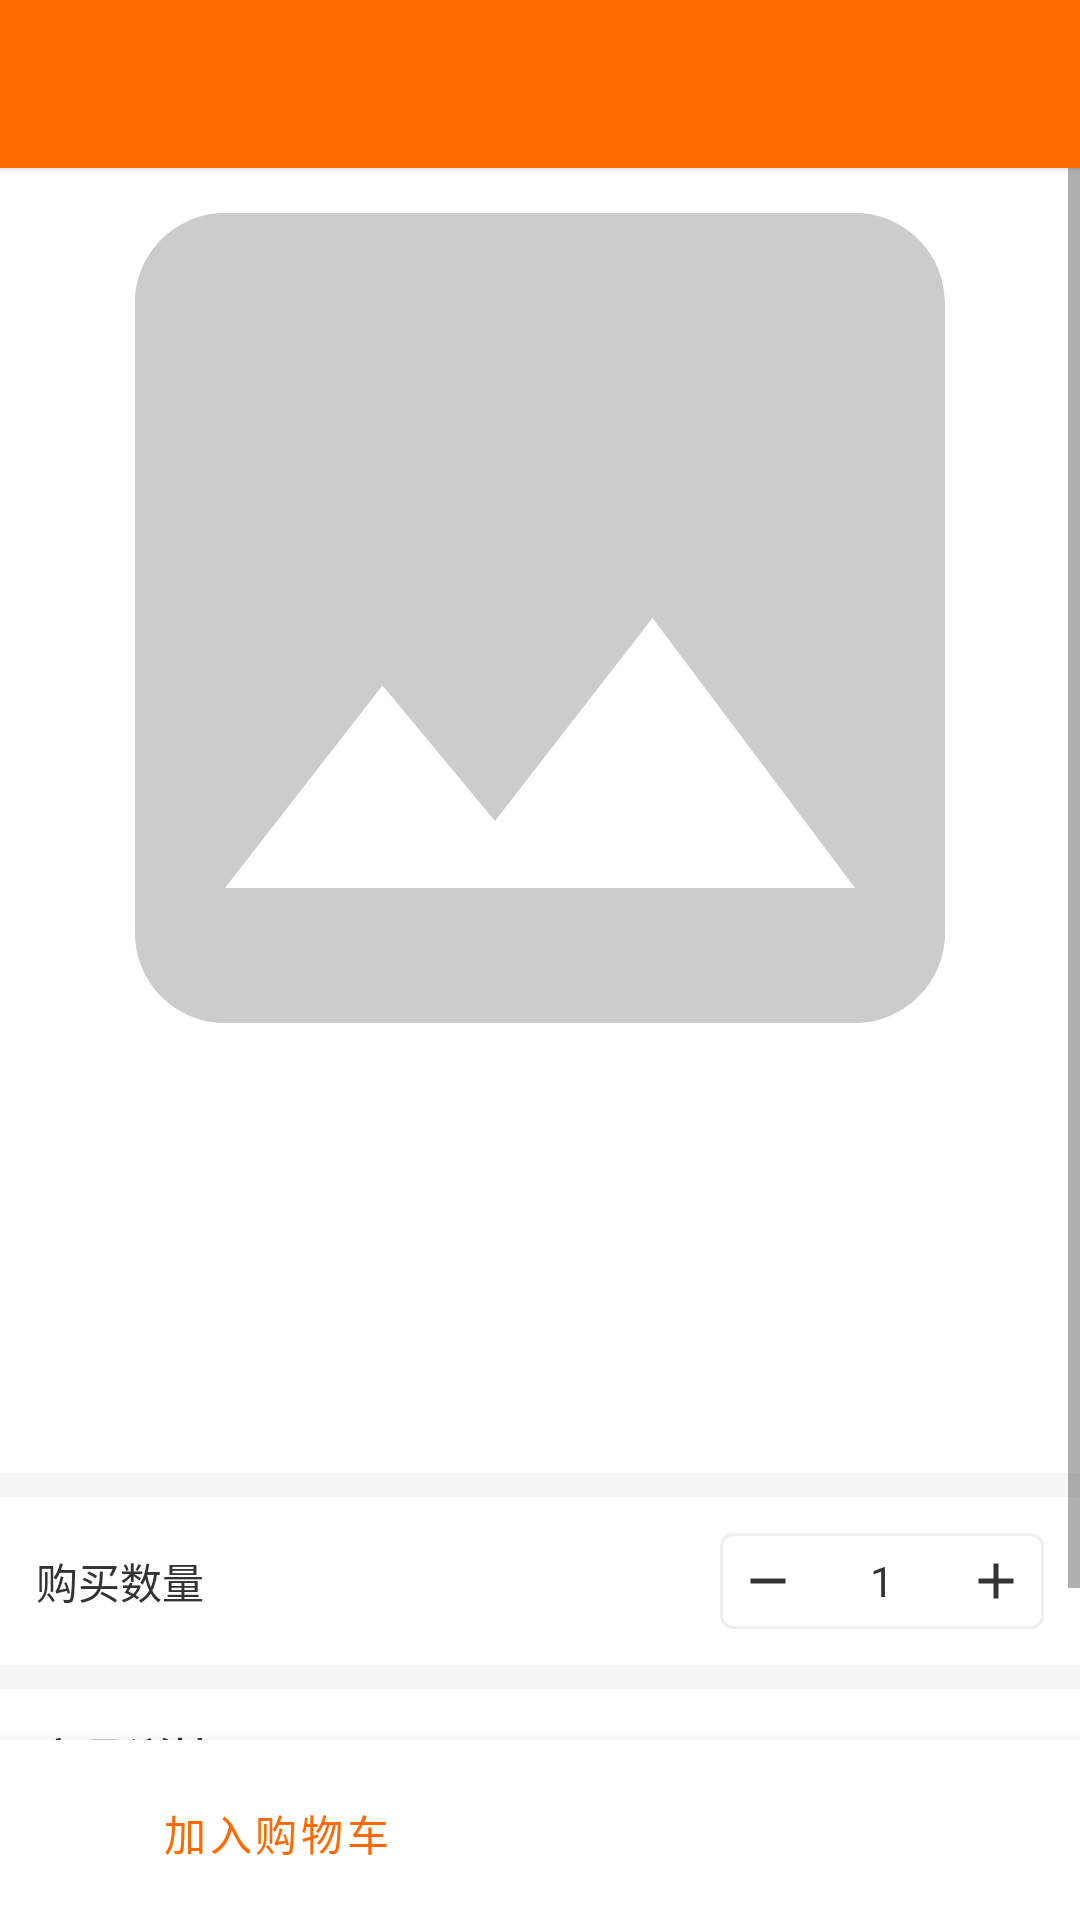

Icon bounding boxes for this 1080 × 1920 phone screenshot, format detection(x1, y1, x2, y2):
减少: detection(750, 1578, 786, 1584)
增加: detection(978, 1563, 1014, 1599)
